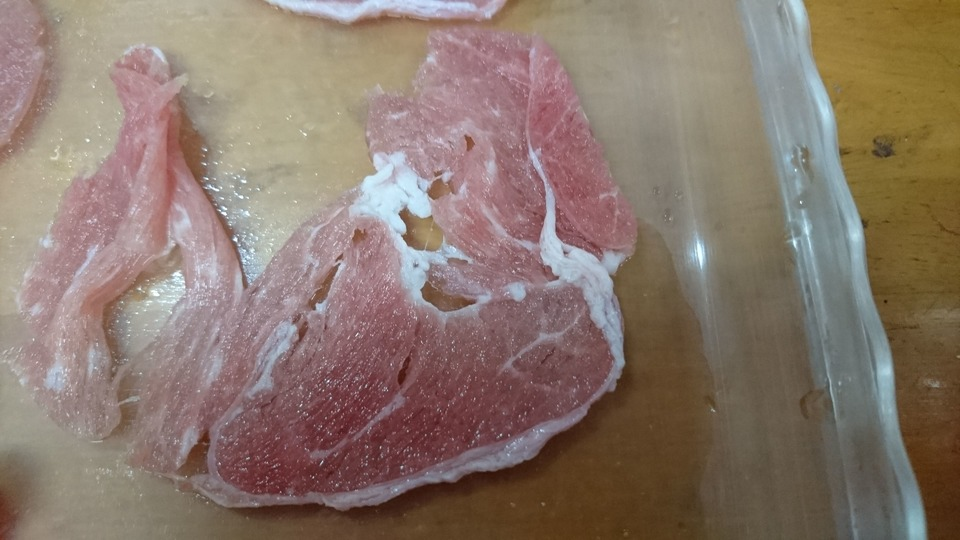restructured meat: (47, 52, 645, 485)
